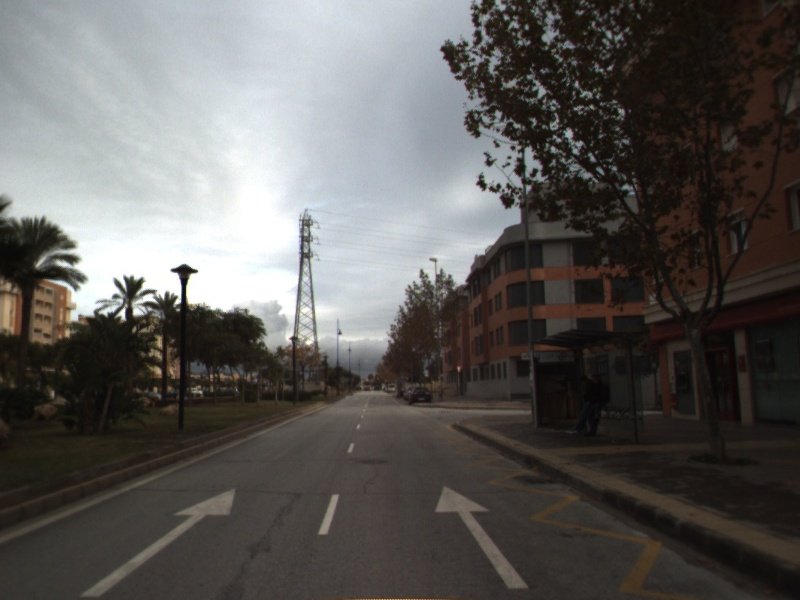STRAIGHT: (78, 486, 237, 598), (433, 483, 530, 590)
